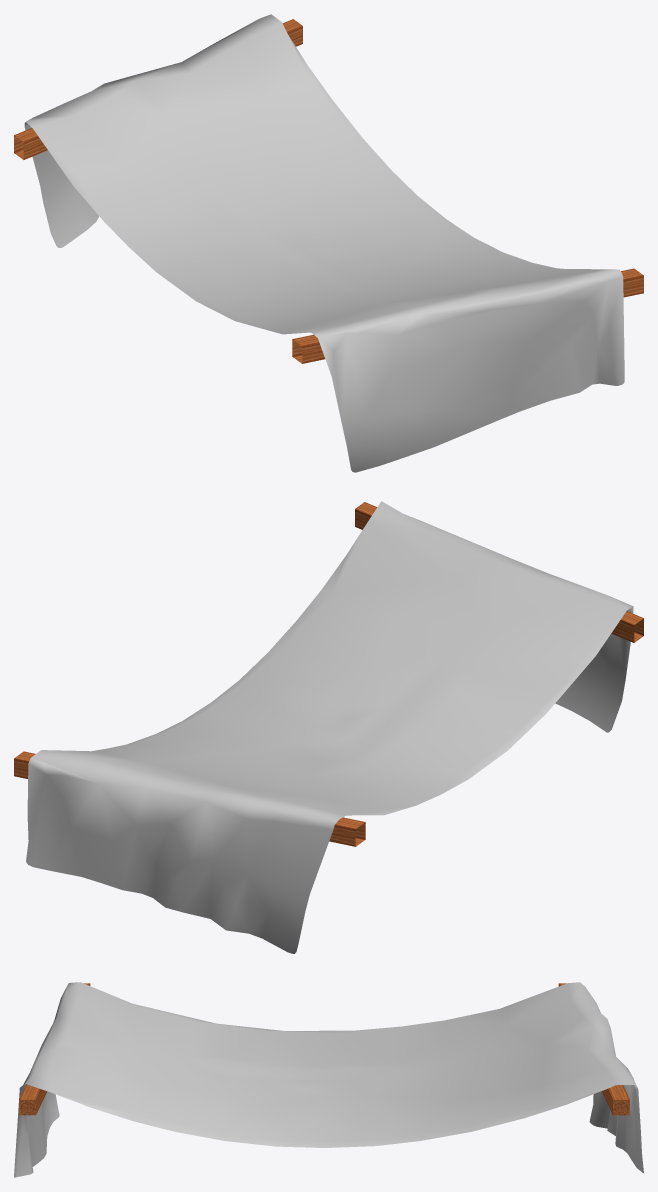
The model's file is awning_small.fbx.
3 views of the same model, one above another, from view 1: azimuth 30°, elevation 25°; view 2: azimuth 150°, elevation 25°; view 3: azimuth 270°, elevation 25° (orthographic). The views are drawn at different scales.
Visible parts, largest first — view 1: Plane.005; view 2: Plane.005; view 3: Plane.005.
Boxes of the visible parts, bbox=[...] form: Plane.005: bbox=[14, 14, 643, 472]; Plane.005: bbox=[14, 501, 643, 953]; Plane.005: bbox=[14, 982, 643, 1177].
Size of the model in its own units: 5.87 by 2.86 by 11.83.
